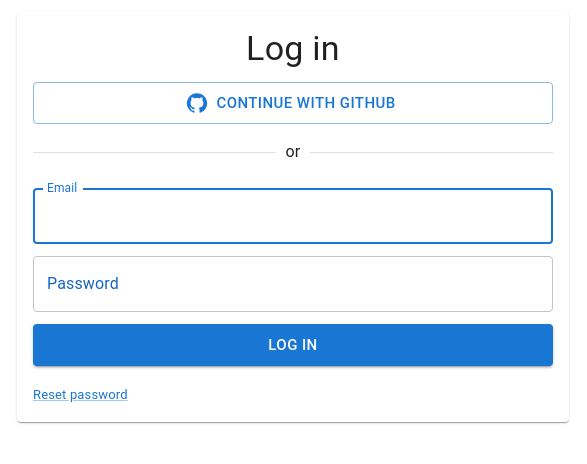
displays error when email field is empty
This screenshot has width=587, height=464.
Note: Fill in the password field
Type "correctpassword" into the password field labelled "Password" at (293, 284), box x1=33 y1=256 x2=553 y2=312
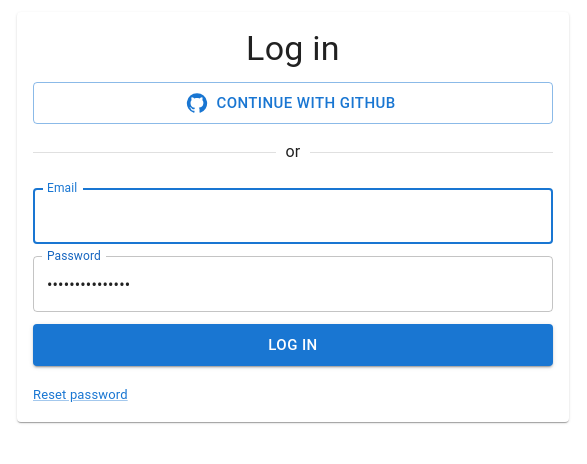
Note: Click the login button
Click the button "Log in" at (293, 345), box x1=33 y1=324 x2=553 y2=366
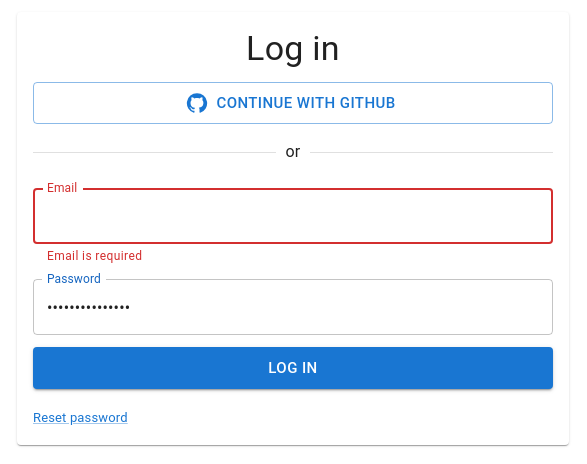
Check: the button "Log in" is enabled, box x1=33 y1=347 x2=553 y2=389
Check: the text "Email is required" is shown, box x1=47 y1=249 x2=142 y2=263
